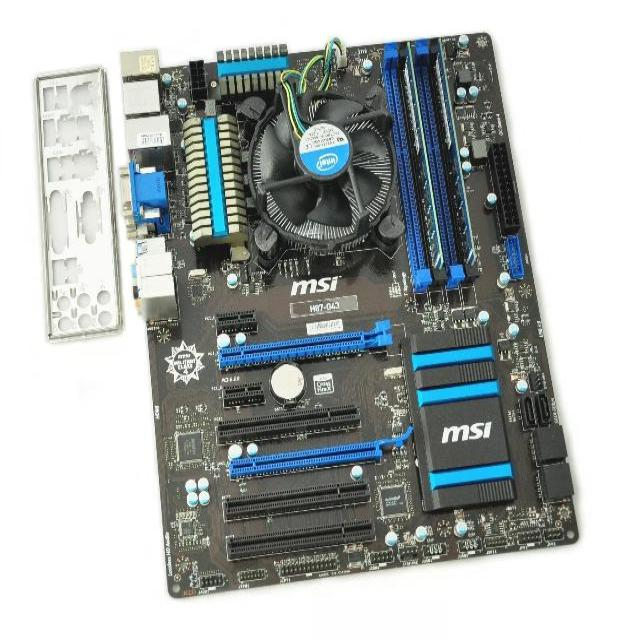CPU_Fan: (238, 83, 408, 257)
RAM: (398, 41, 446, 272), (432, 38, 478, 270)
